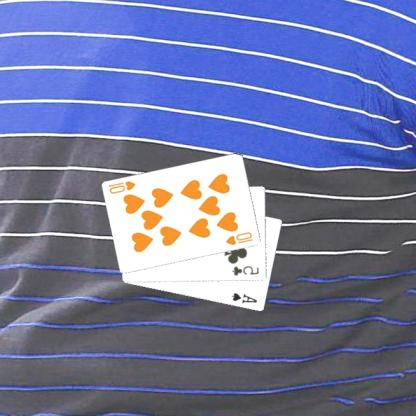10H: (226, 229, 257, 247), (108, 178, 139, 195)
5C: (232, 263, 262, 278)
AS: (231, 290, 261, 305)
